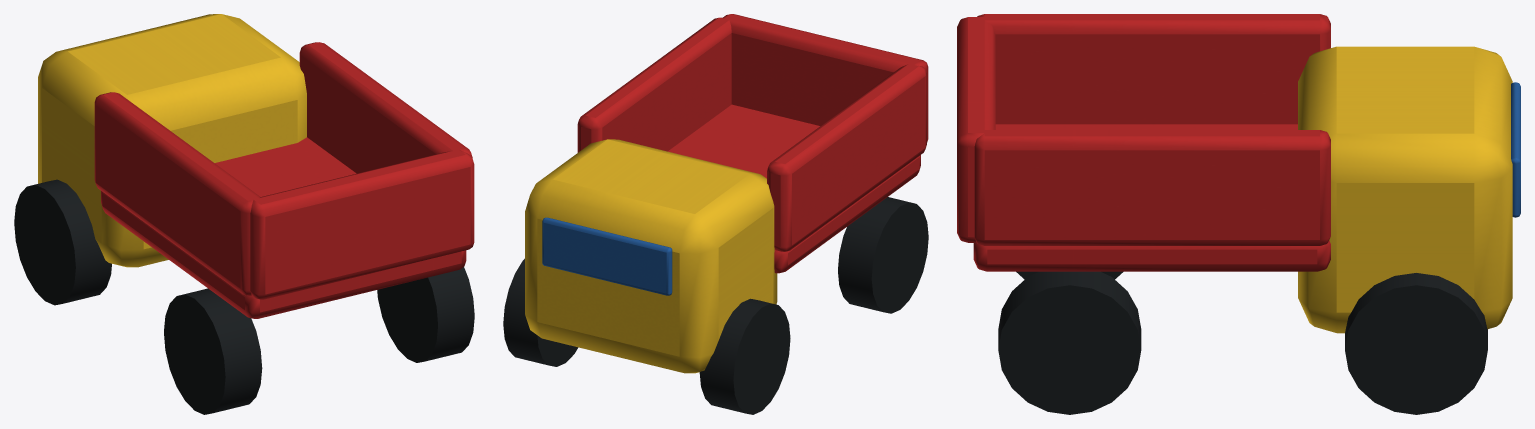
File: DebrisToyTruck.gltf
3 renders of one model, left to right at view 1: azimuth 30°, elevation 25°; view 2: azimuth 150°, elevation 25°; view 3: azimuth 270°, elevation 25°, orthographic. The views are drawn at different scales.
Parts seen in each view (by area): view 1: DebrisToyTruck__Body; view 2: DebrisToyTruck__Body; view 3: DebrisToyTruck__Body.
Boxes of the visible parts, x1=… form: DebrisToyTruck__Body: x1=14, y1=14, x2=474, y2=414; DebrisToyTruck__Body: x1=503, y1=14, x2=928, y2=414; DebrisToyTruck__Body: x1=957, y1=14, x2=1520, y2=414.
Bounding box in the file's own units: 0.182 × 0.1624 × 0.308.
Materials: 1 (1 with a texture image).
